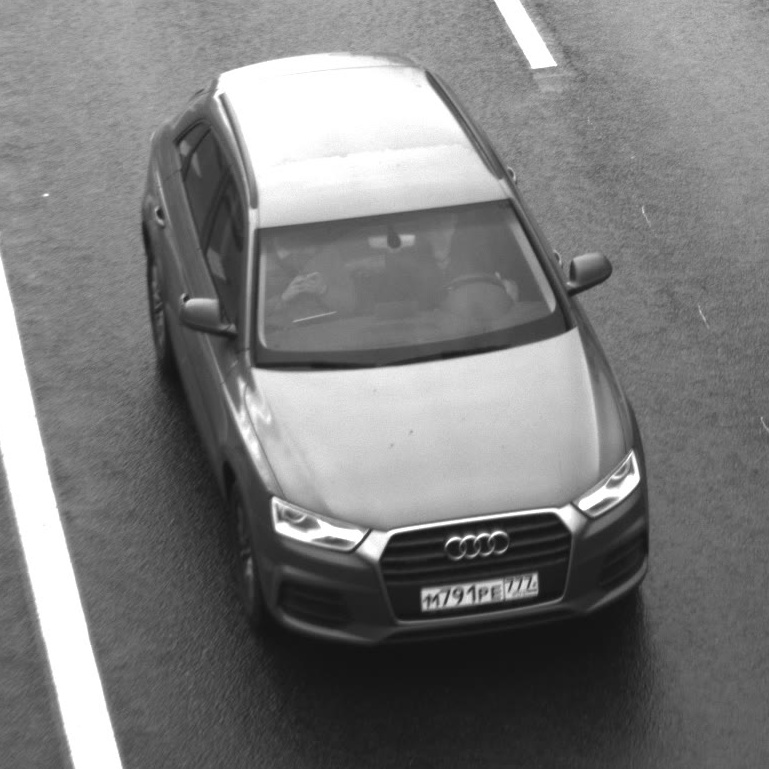plate: (409, 562, 547, 618)
